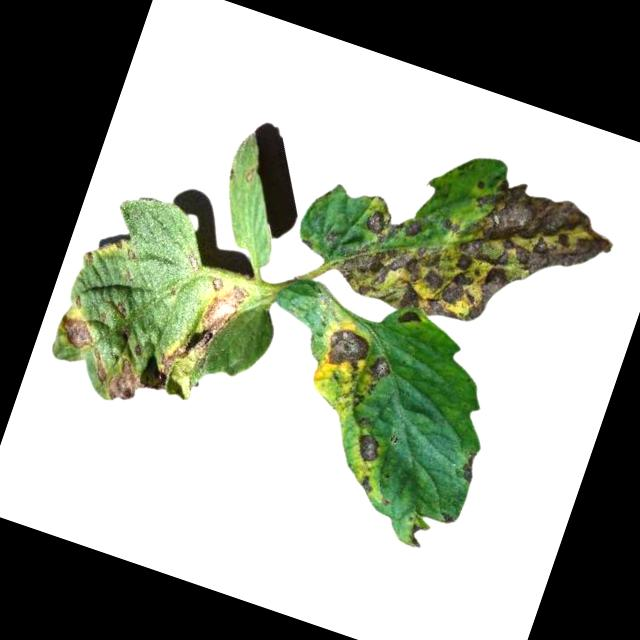Early_blight: (329, 133, 623, 367), (185, 274, 252, 365), (79, 347, 148, 407), (319, 323, 372, 373), (55, 313, 98, 353), (350, 430, 384, 467), (457, 450, 481, 487), (366, 353, 394, 383), (396, 307, 424, 332), (406, 524, 429, 549), (359, 475, 376, 495), (112, 301, 129, 319)
